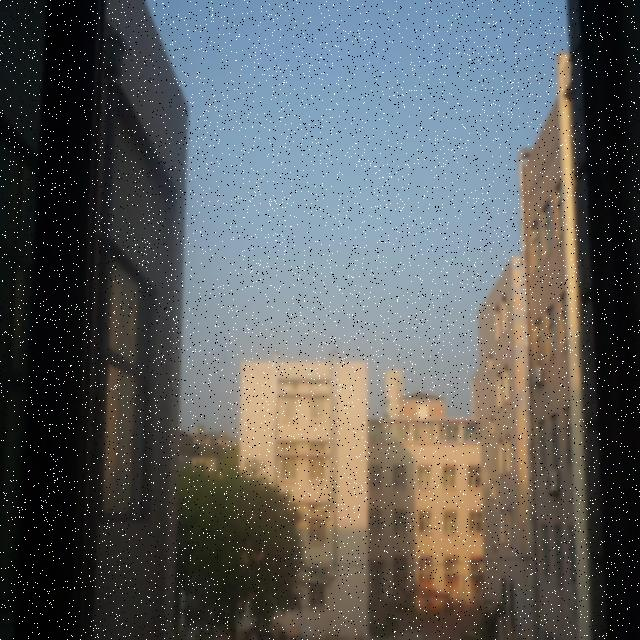UAV: (466, 423, 476, 434)
